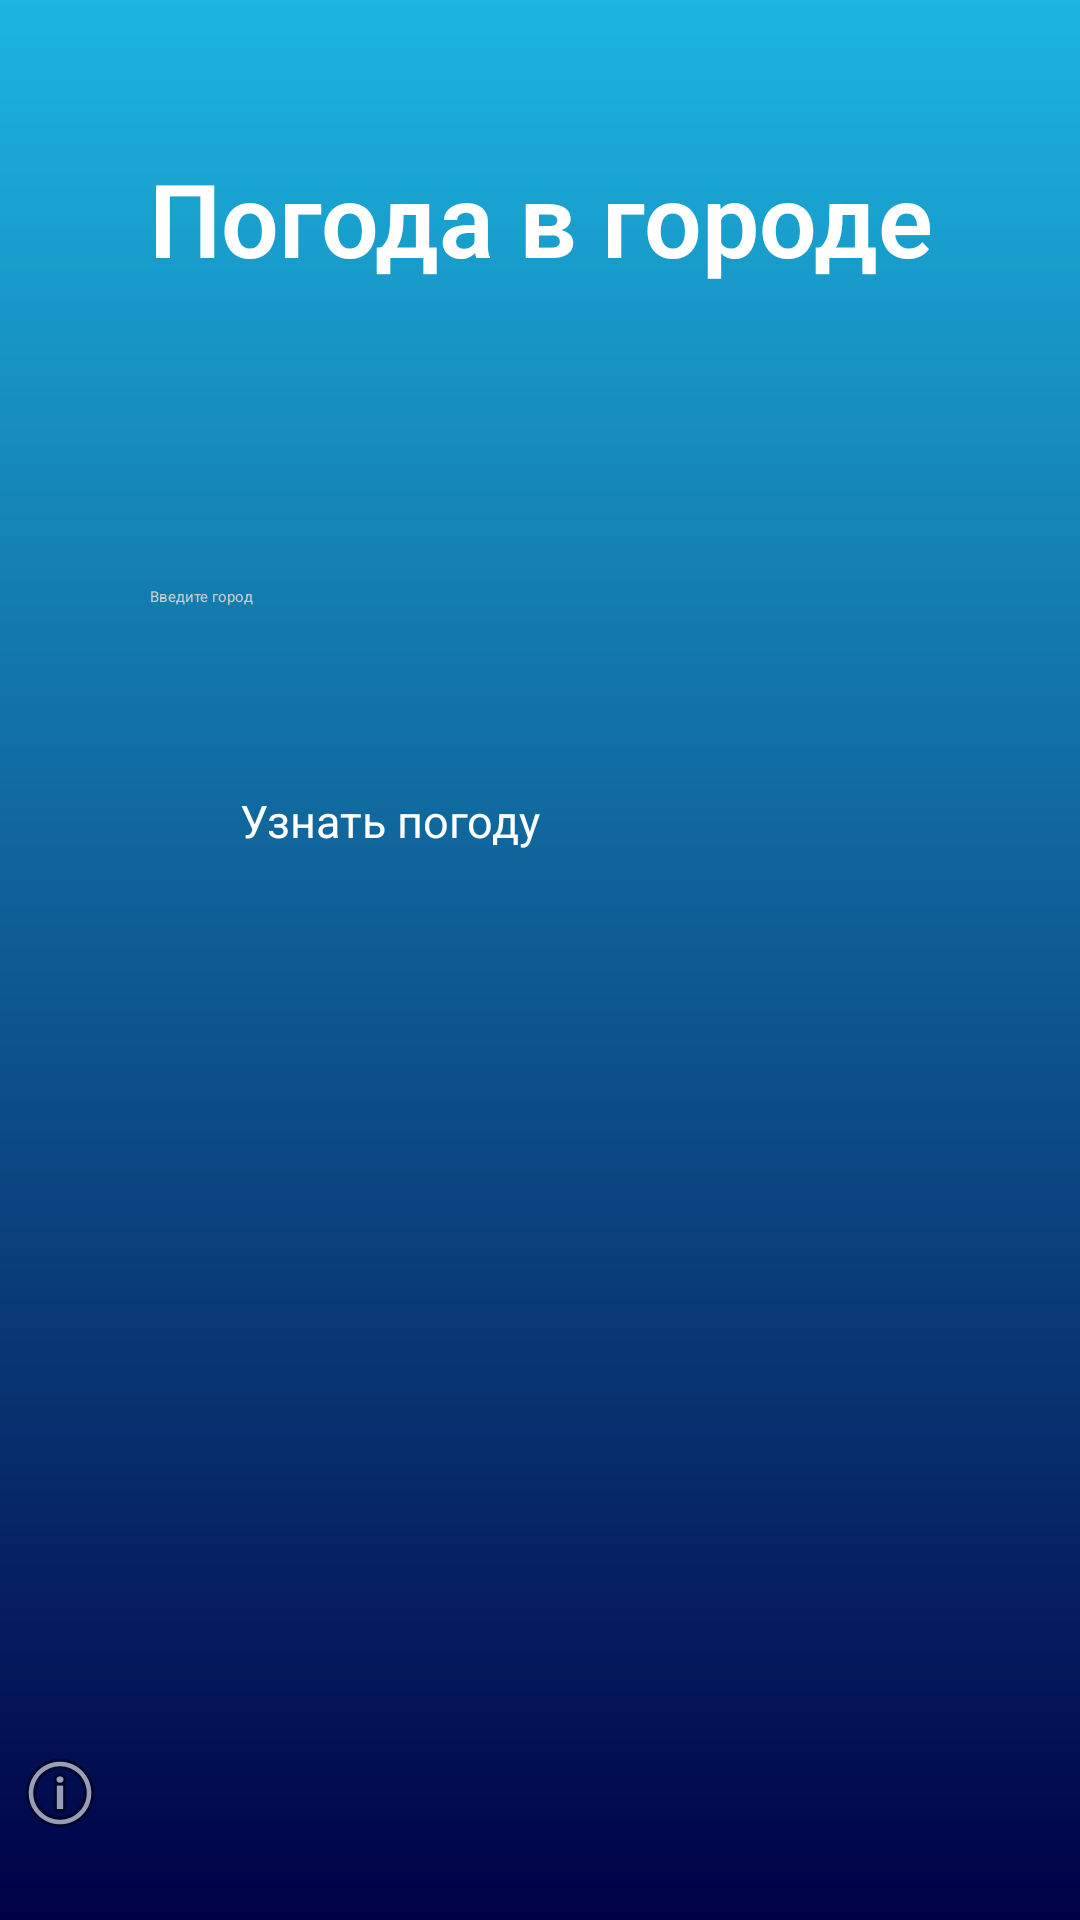

Icon bounding boxes for this 1080×1920 phone screenshot, format (x1, y1, x2, y2):
О приложении: (26, 1759, 94, 1827)
